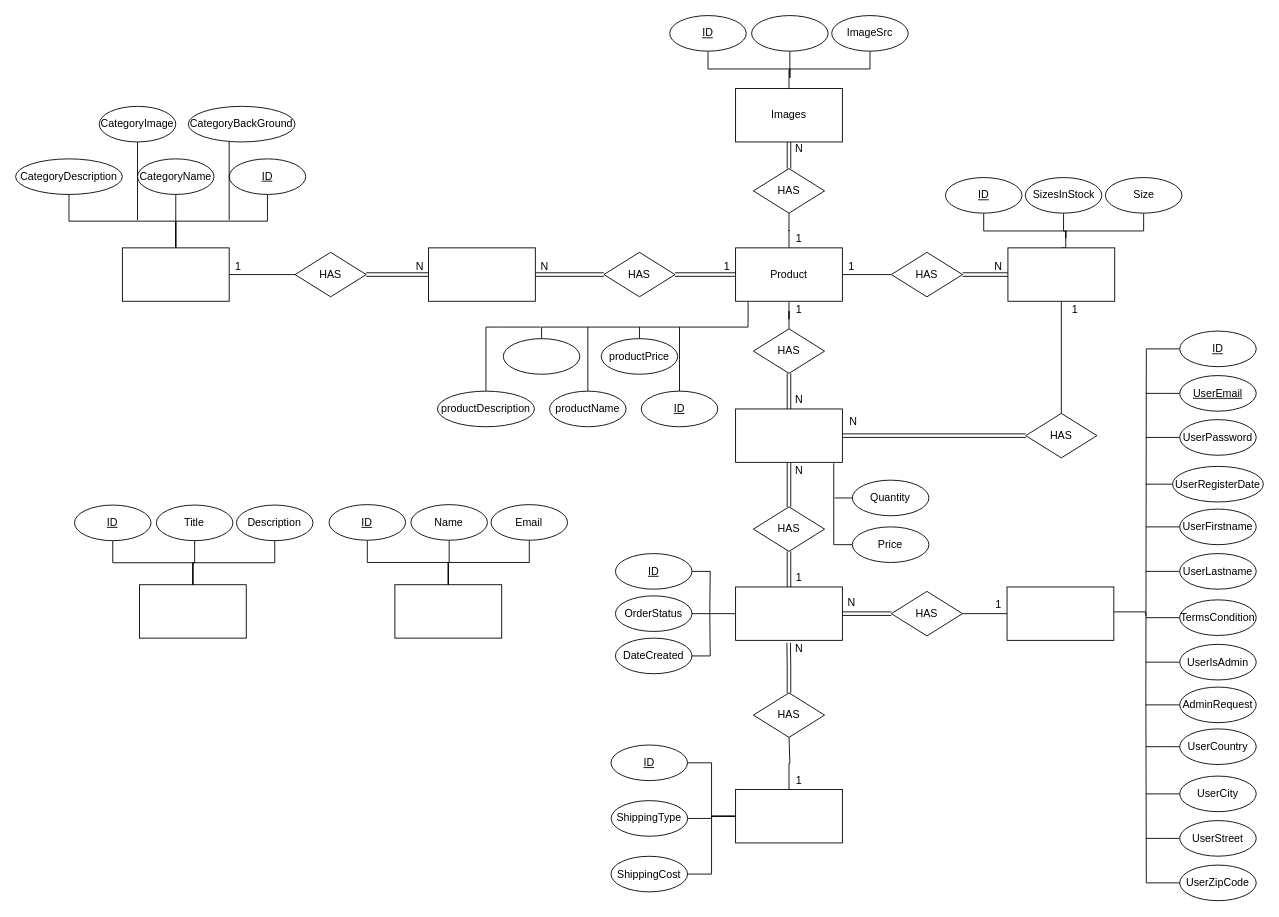
The diagram is 1279 pixels wide and 917 high, and some of its shapes have lost their labels. The box of each missing label's shape, as (x1, y1, x2, y2) in pixels:
Category: (121, 247, 229, 301)
ImageType: (751, 15, 828, 51)
Newsletter: (139, 584, 246, 638)
Order: (735, 586, 842, 640)
Order details: (735, 408, 842, 462)
Product in category: (428, 247, 535, 301)
productImage: (502, 338, 580, 374)
Shipping: (735, 789, 842, 843)
Sizes: (1007, 247, 1115, 301)
SubToNewsletter: (394, 584, 502, 638)
User: (1006, 586, 1114, 640)
